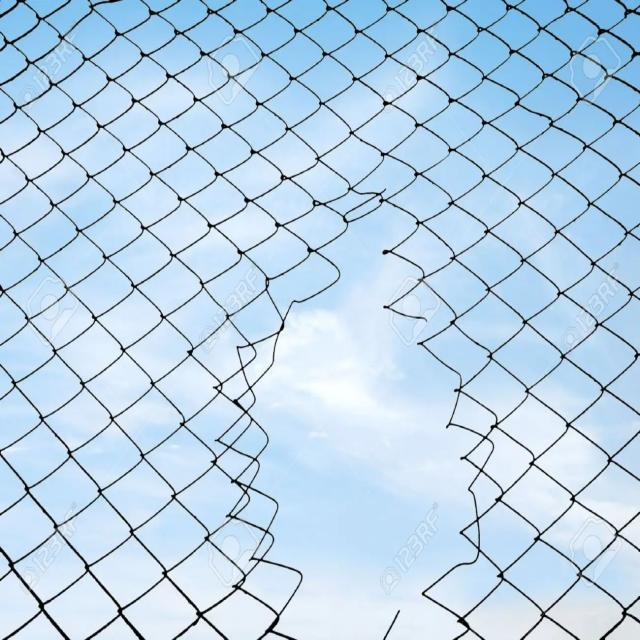fence line: (202, 144, 510, 640)
